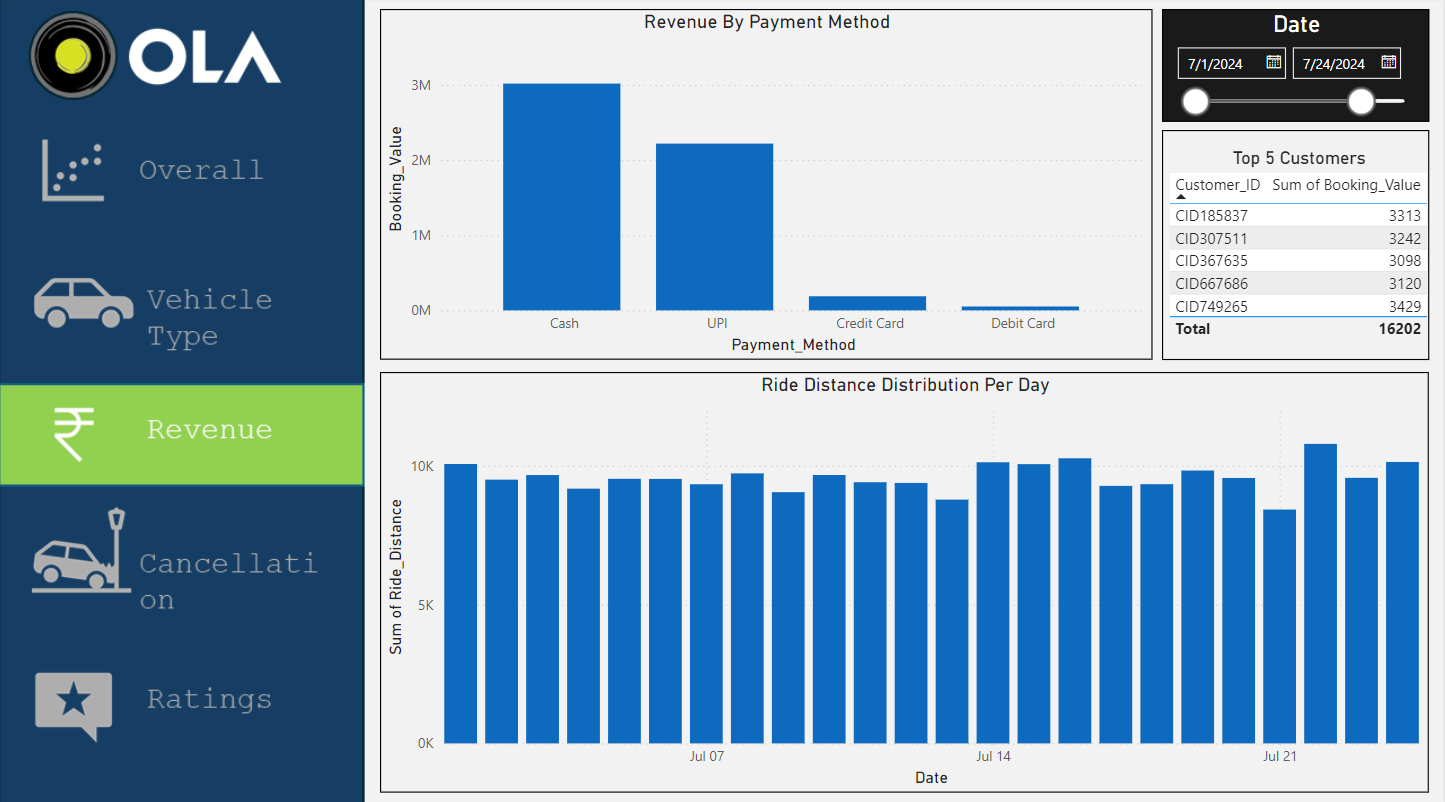

The page's visual inventory and layout, read from the dashboard file:
{"tool":"powerbi","page":{"name":"REVENUE","canvas":[1280,720],"ordinal":3},"visuals":[{"type":"actionButton","box":[0,231.4,325.4,90.4],"z":0},{"type":"actionButton","box":[0,340.5,325.4,91.3],"z":1000},{"type":"actionButton","box":[0,442.5,325.4,112.6],"z":2000},{"type":"actionButton","box":[0,576.4,325.4,92.2],"z":3000},{"type":"actionButton","box":[0,110.8,325.4,93.1],"z":4000},{"type":"columnChart","title":"Revenue By Payment Method","fields":{"Y":["Sum(Bookings.Booking_Value)"],"Category":["Bookings.Payment_Method"]},"box":[337.8,10.6,684.5,311.2],"z":5000},{"type":"columnChart","title":" Ride Distance Distribution Per Day","fields":{"Y":["Sum(Bookings.Ride_Distance)"],"Category":["Bookings.Date"]},"box":[337.8,332.5,930.1,373.3],"z":6000},{"type":"slicer","title":"Date","fields":{"Values":["Bookings.Date"]},"box":[1031.2,10.6,236.7,100.2],"z":7000},{"type":"tableEx","title":"Top 5 Customers","fields":{"Values":["Bookings.Customer_ID","Sum(Bookings.Booking_Value)"]},"box":[1031,117.7,237.3,204.3],"z":8000}]}

Visuals, with their boxes in screenshot pixels (x1, y1, x2, y2), scaled from the page's 1280x720 canvas onto the 1445x802 screenshot:
actionButton: locate(0, 258, 367, 358)
actionButton: locate(0, 379, 367, 481)
actionButton: locate(0, 493, 367, 618)
actionButton: locate(0, 642, 367, 745)
actionButton: locate(0, 123, 367, 227)
"Revenue By Payment Method" columnChart: locate(381, 12, 1154, 358)
" Ride Distance Distribution Per Day" columnChart: locate(381, 370, 1431, 786)
"Date" slicer: locate(1164, 12, 1431, 123)
"Top 5 Customers" tableEx: locate(1164, 131, 1432, 359)
